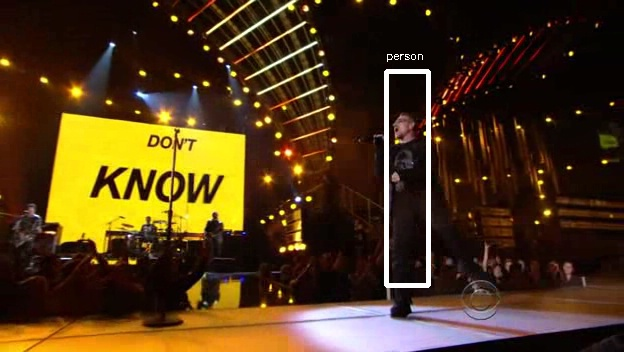person: (374, 110, 441, 221), (371, 110, 438, 221), (377, 110, 444, 221), (374, 107, 441, 218), (374, 113, 441, 224)
target_negative: (39, 42, 352, 189), (44, 172, 545, 197), (152, 133, 357, 157), (16, 309, 403, 313), (461, 258, 566, 264), (617, 213, 622, 291)
